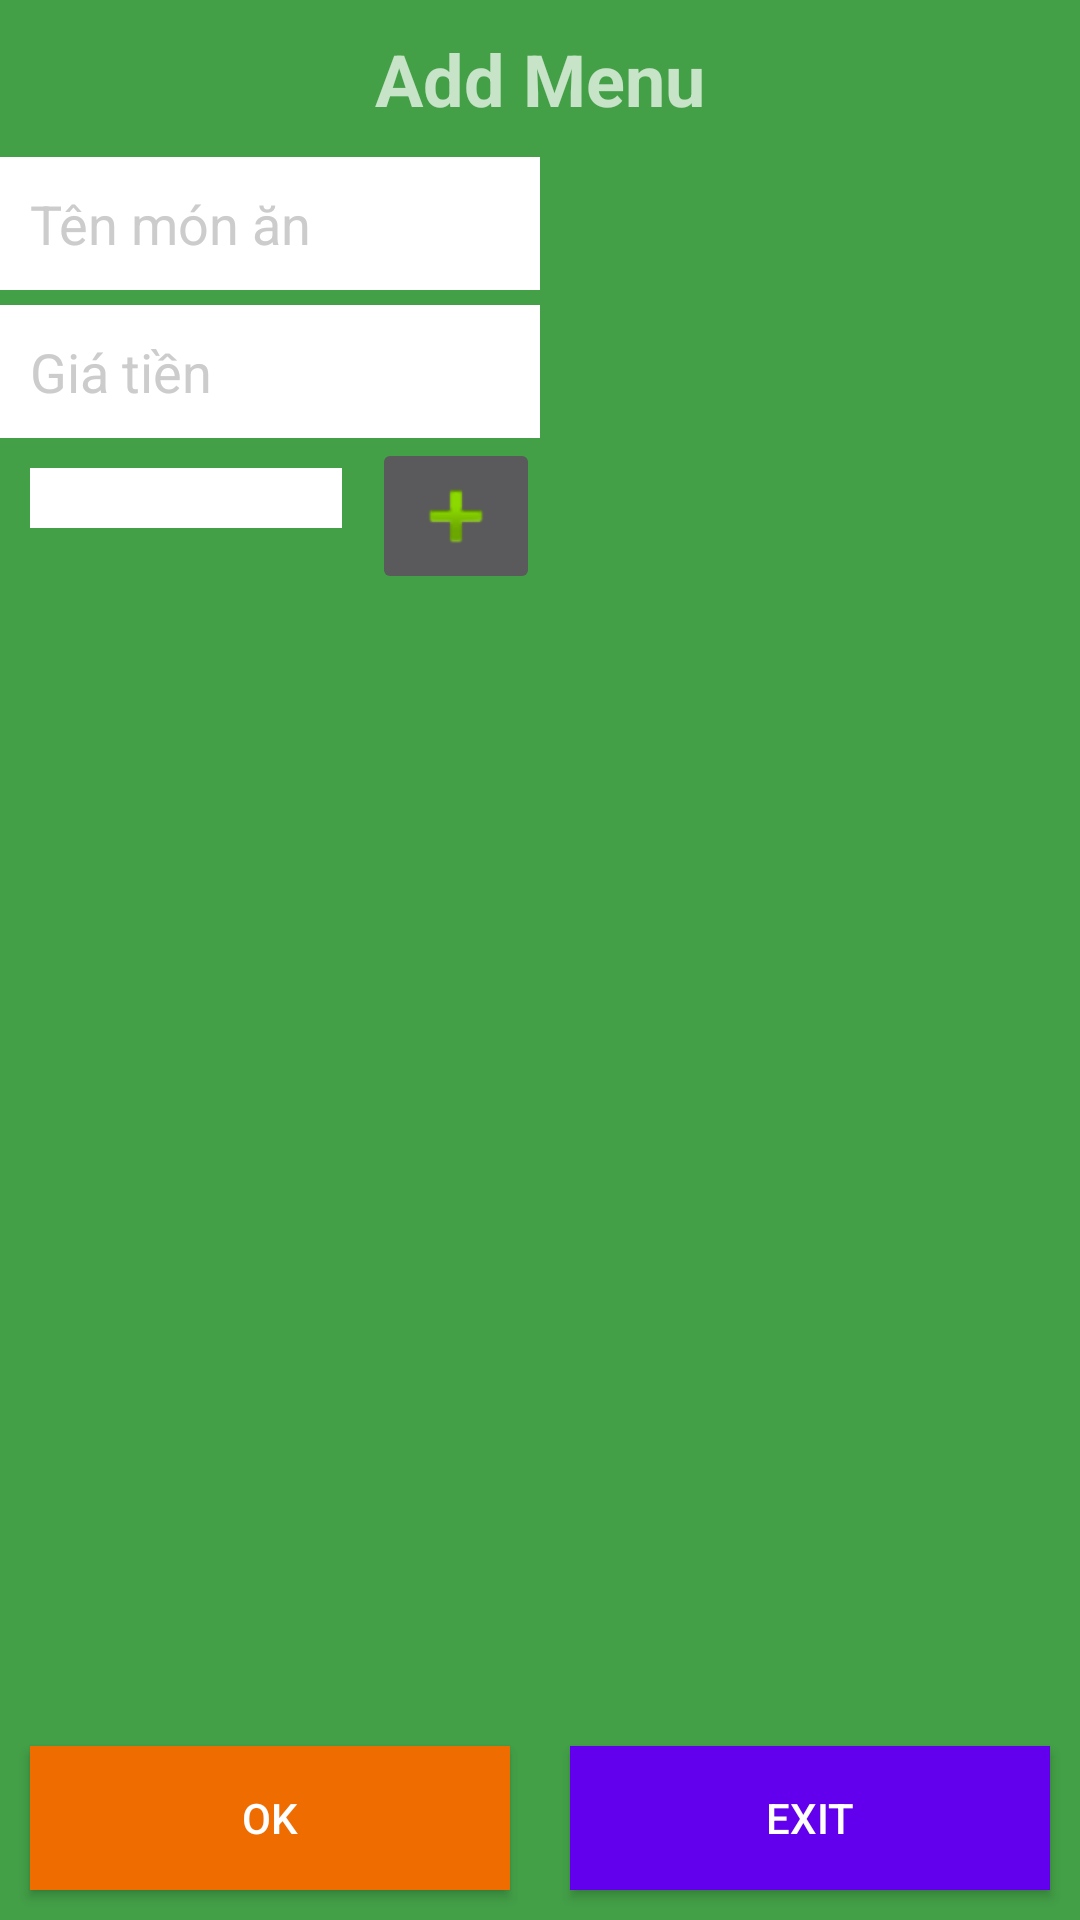

Screen size 1080px×1920px. Icon name, then its center in pixels as (x=x, y=y):
add: (x=456, y=516)
